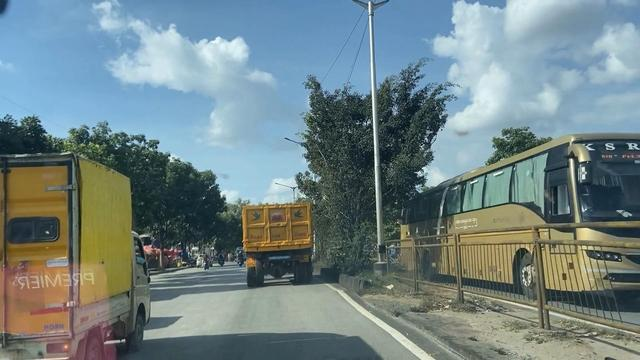HMV: (6, 149, 146, 352), (242, 201, 314, 280)
